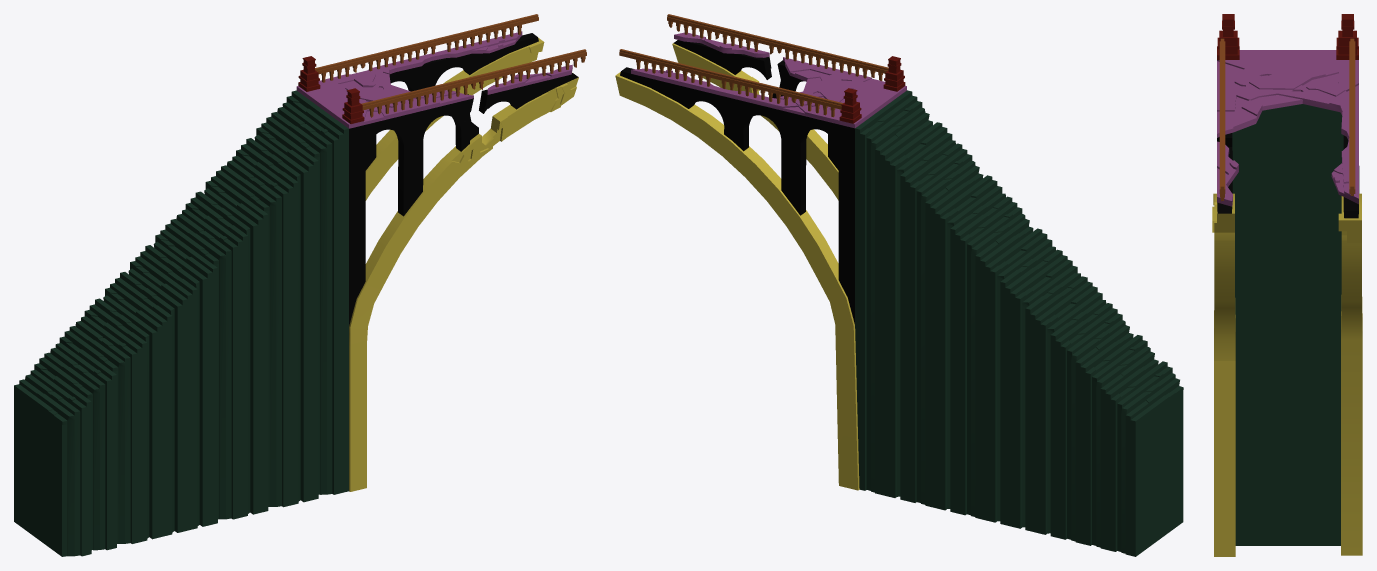
File: SM_Entrance_V5.fbx
The picture shows the model from 3 angles, left to right: view 1: azimuth 30°, elevation 25°; view 2: azimuth 150°, elevation 25°; view 3: azimuth 270°, elevation 25°; orthographic projection. The views are drawn at different scales.
Parts seen in each view (by area): view 1: stairs_014, arche_2, pont_1, rampe, statue_upport_003; view 2: stairs_014, arche_2, pont_1, rampe, statue_upport_003; view 3: stairs_014, arche_2, pont_1, rampe, statue_upport_003.
Boxes of the visible parts, x1,y1,x2,y2 form: stairs_014: (14,90,348,556); arche_2: (349,33,578,491); pont_1: (296,31,572,128); rampe: (315,14,586,117); statue_upport_003: (298,56,364,123); stairs_014: (855,90,1183,556); arche_2: (615,40,859,490); pont_1: (631,32,906,128); rampe: (619,14,888,117); statue_upport_003: (839,56,905,123); stairs_014: (1232,104,1343,545); arche_2: (1212,133,1362,556); pont_1: (1217,50,1358,206); rampe: (1219,38,1355,201); statue_upport_003: (1217,14,1358,59).
Size of the model in its own units: 5181 by 3743 by 954.
